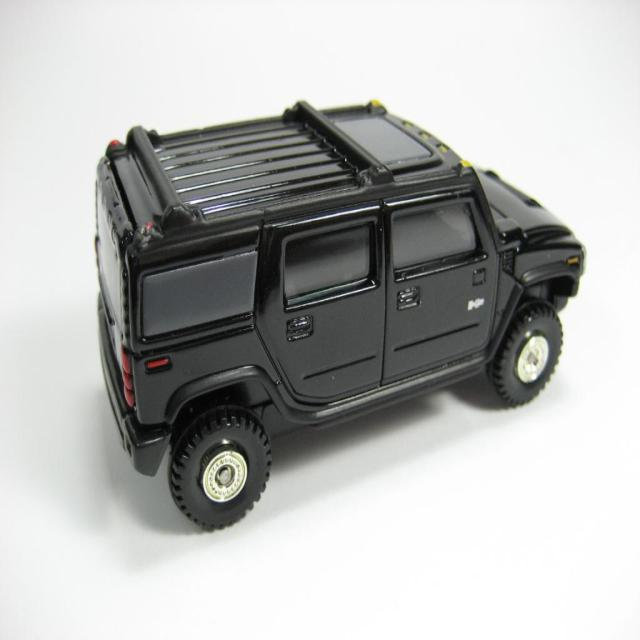car: (96, 98, 586, 532)
